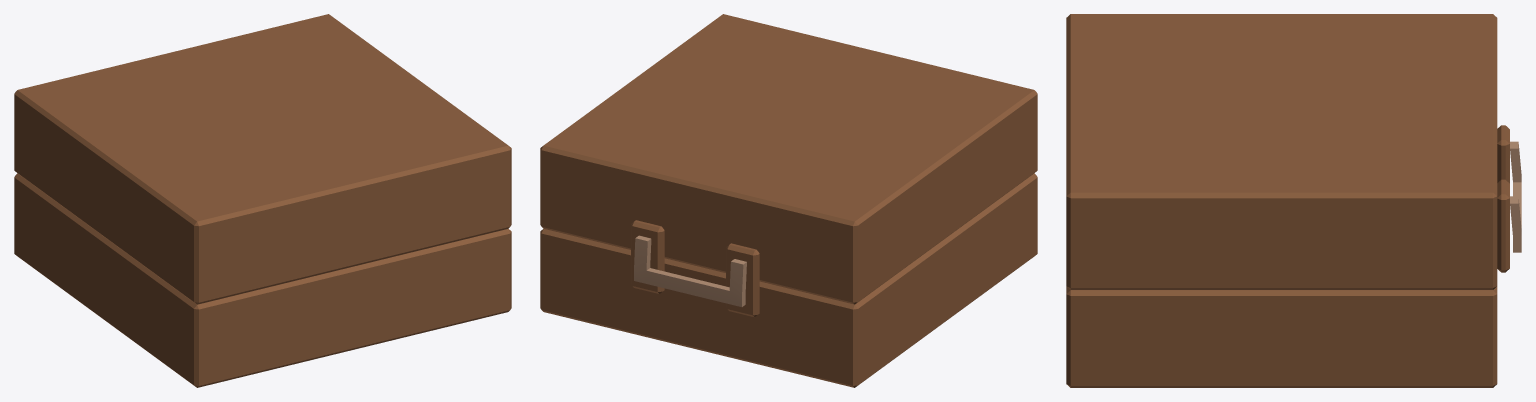
File: shoutixiang.obj
3 views of the same model, side by side, from view 1: azimuth 30°, elevation 25°; view 2: azimuth 150°, elevation 25°; view 3: azimuth 270°, elevation 25° (orthographic). The views are drawn at different scales.
Visible parts, largest first — view 1: kefeixiangzi.3; view 2: kefeixiangzi.3, bashou; view 3: kefeixiangzi.3, bashou.
Part boxes in pixels (bbox=[...]): kefeixiangzi.3: bbox=[14, 14, 511, 387]; kefeixiangzi.3: bbox=[540, 14, 1037, 387]; bashou: bbox=[634, 235, 746, 306]; kefeixiangzi.3: bbox=[1066, 14, 1509, 387]; bashou: bbox=[1510, 141, 1521, 252].
Bounding box in the file's own units: 10 × 5 × 10.56.
